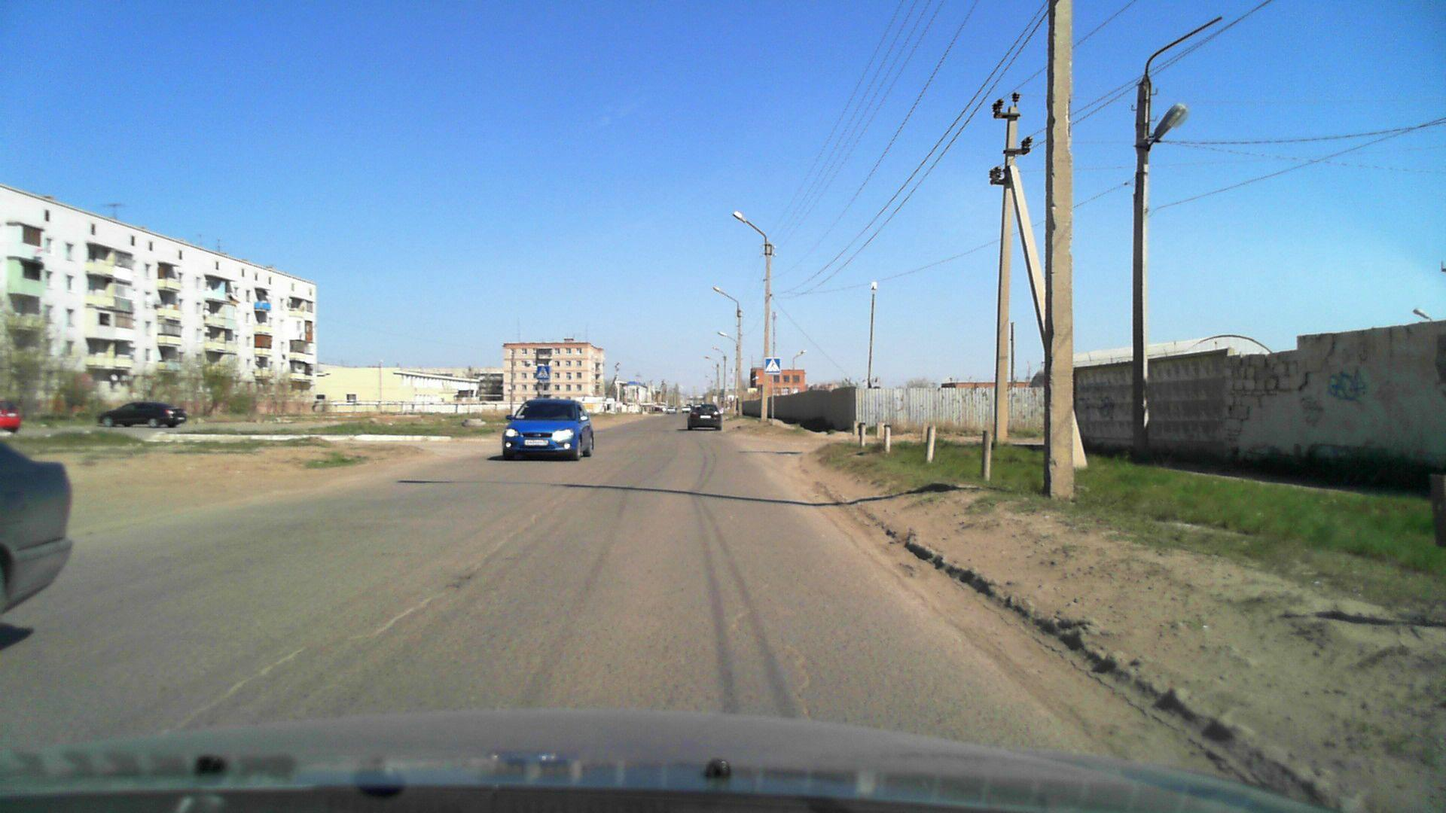road_sign: (764, 357, 782, 374), (535, 365, 551, 380)
